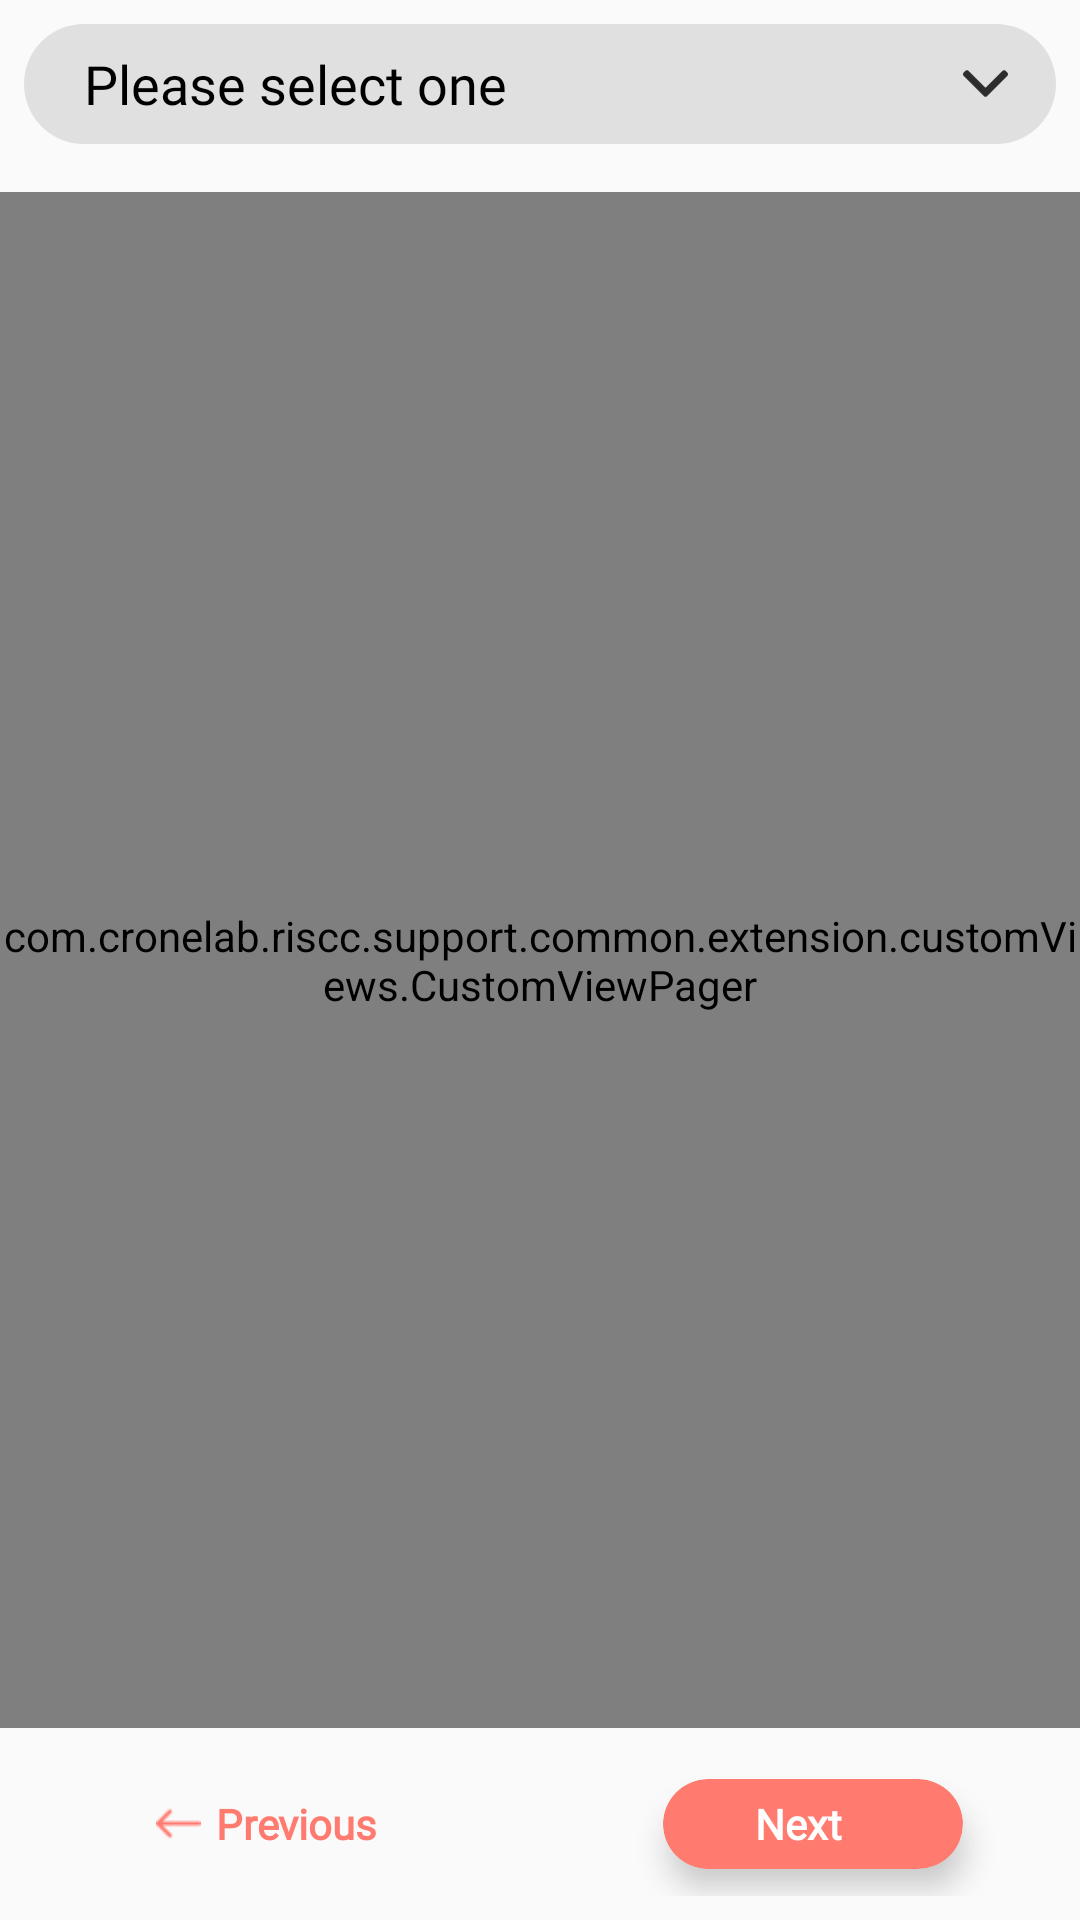

Where to tap for icons on this 1080px×1920px app screen, as (x=x, y=y):
left arrow: (x=178, y=1823)
